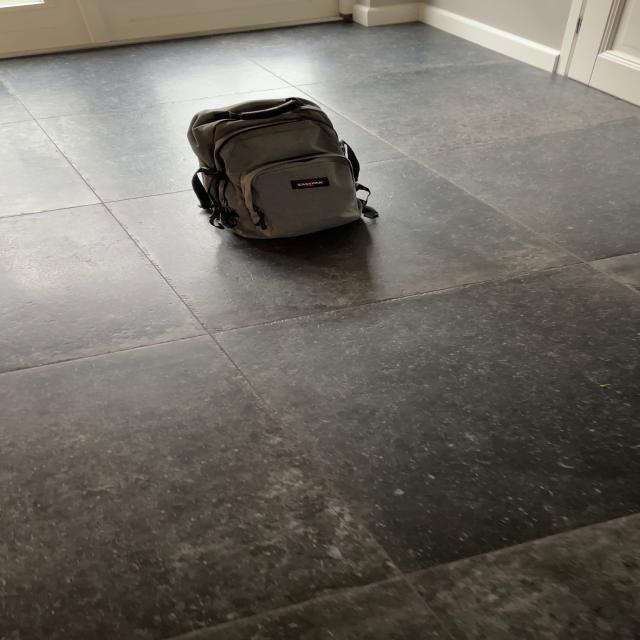backpack: (180, 92, 374, 244)
